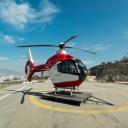helicopter: (17, 31, 100, 111)
